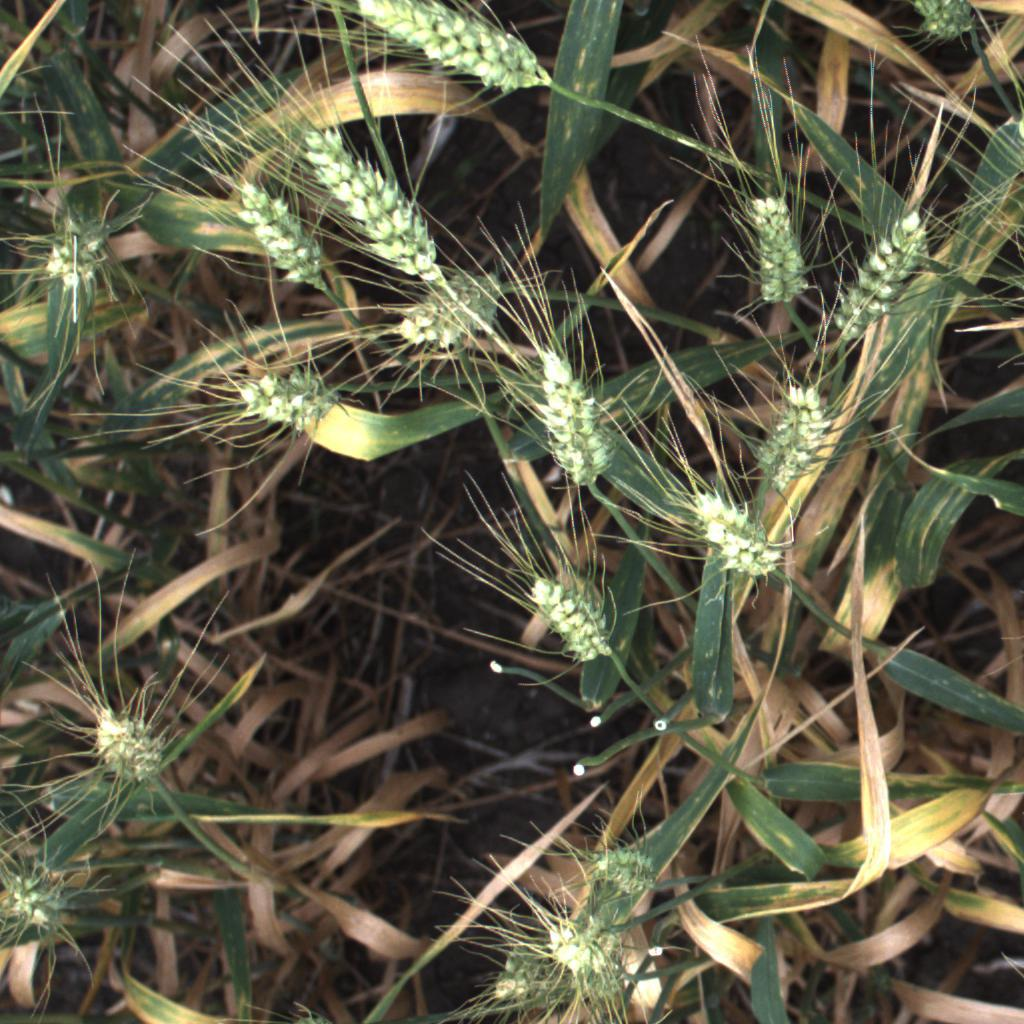0-0: (291, 117, 462, 298), (347, 0, 561, 101), (525, 336, 628, 497), (828, 204, 937, 355), (228, 167, 341, 300), (672, 475, 796, 593), (387, 259, 531, 359), (727, 178, 823, 325), (740, 368, 840, 497), (87, 691, 189, 803), (513, 559, 618, 665), (463, 950, 635, 1011), (222, 361, 359, 437), (0, 851, 87, 954), (35, 204, 117, 310), (535, 904, 636, 982), (579, 837, 669, 901), (896, 0, 993, 47)
